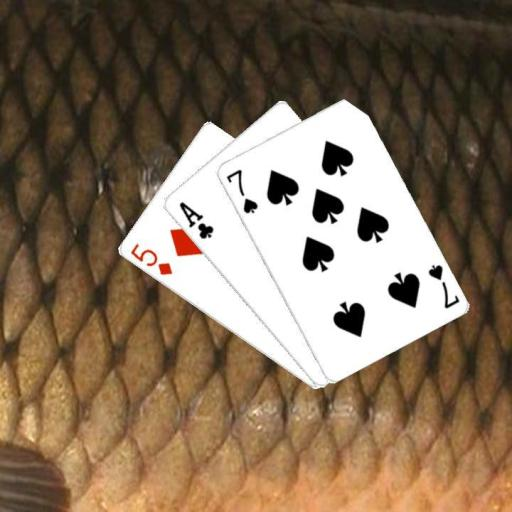5D: (127, 241, 174, 278)
7S: (223, 166, 260, 216), (424, 261, 461, 310)
AC: (176, 198, 215, 241)
